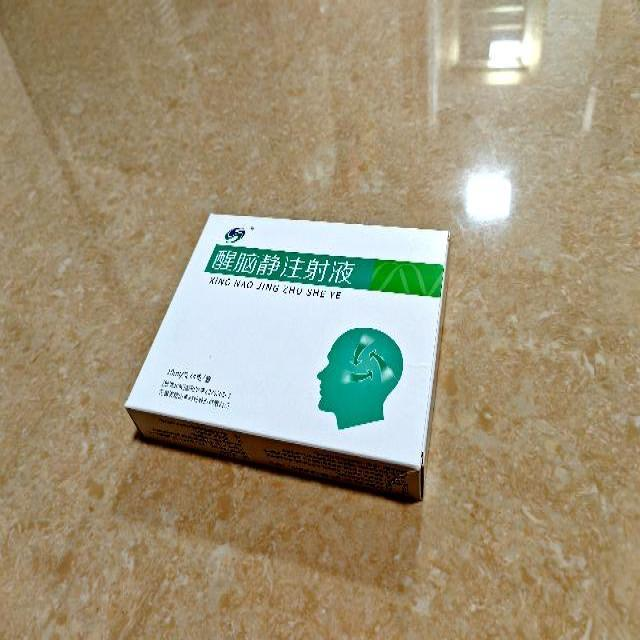box: (124, 211, 448, 501)
